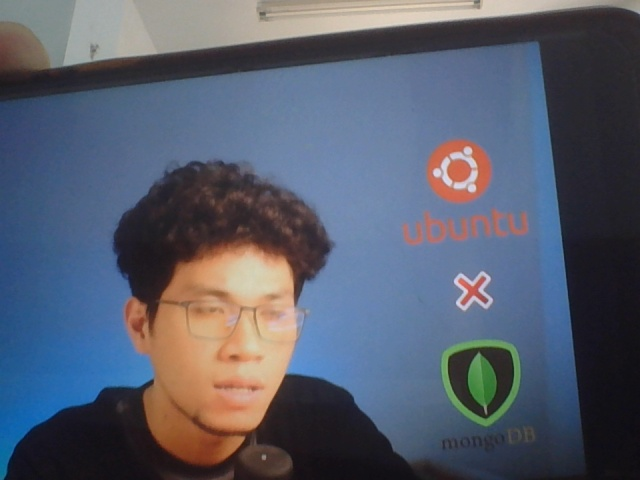fake: (125, 178, 314, 446)
